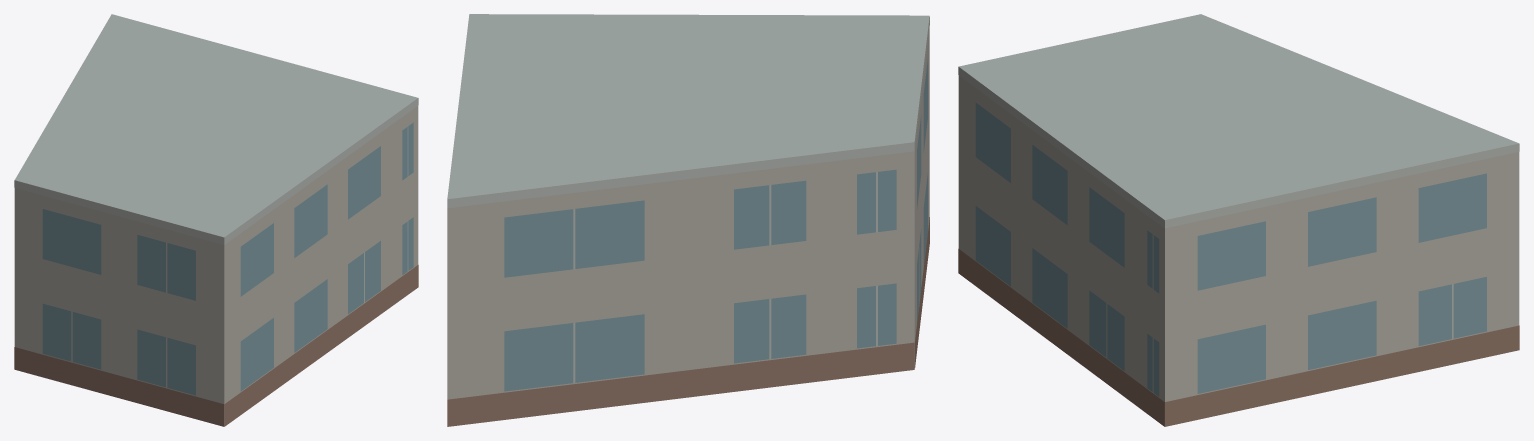
File: survey-upis-32694735.glb
The picture shows the model from 3 angles, left to right: view 1: azimuth 30°, elevation 25°; view 2: azimuth 150°, elevation 25°; view 3: azimuth 270°, elevation 25°; orthographic projection. The views are drawn at different scales.
Parts seen in each view (by area): view 1: survey-upis-32694735.tmp; view 2: survey-upis-32694735.tmp; view 3: survey-upis-32694735.tmp.
Boxes of the visible parts, box(x1,y1,x2,y2) form: survey-upis-32694735.tmp: box(14, 14, 418, 426); survey-upis-32694735.tmp: box(447, 14, 929, 426); survey-upis-32694735.tmp: box(958, 14, 1519, 426).
Bounding box in the file's own units: 13.06 × 6.1 × 15.01.
